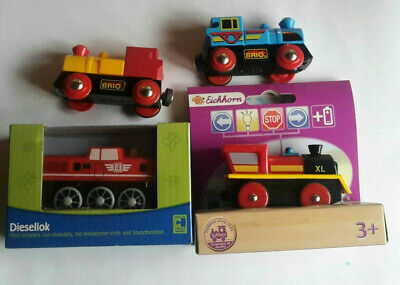brio: (49, 44, 127, 74)
